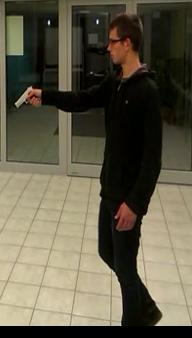pistol: (12, 84, 41, 110)
